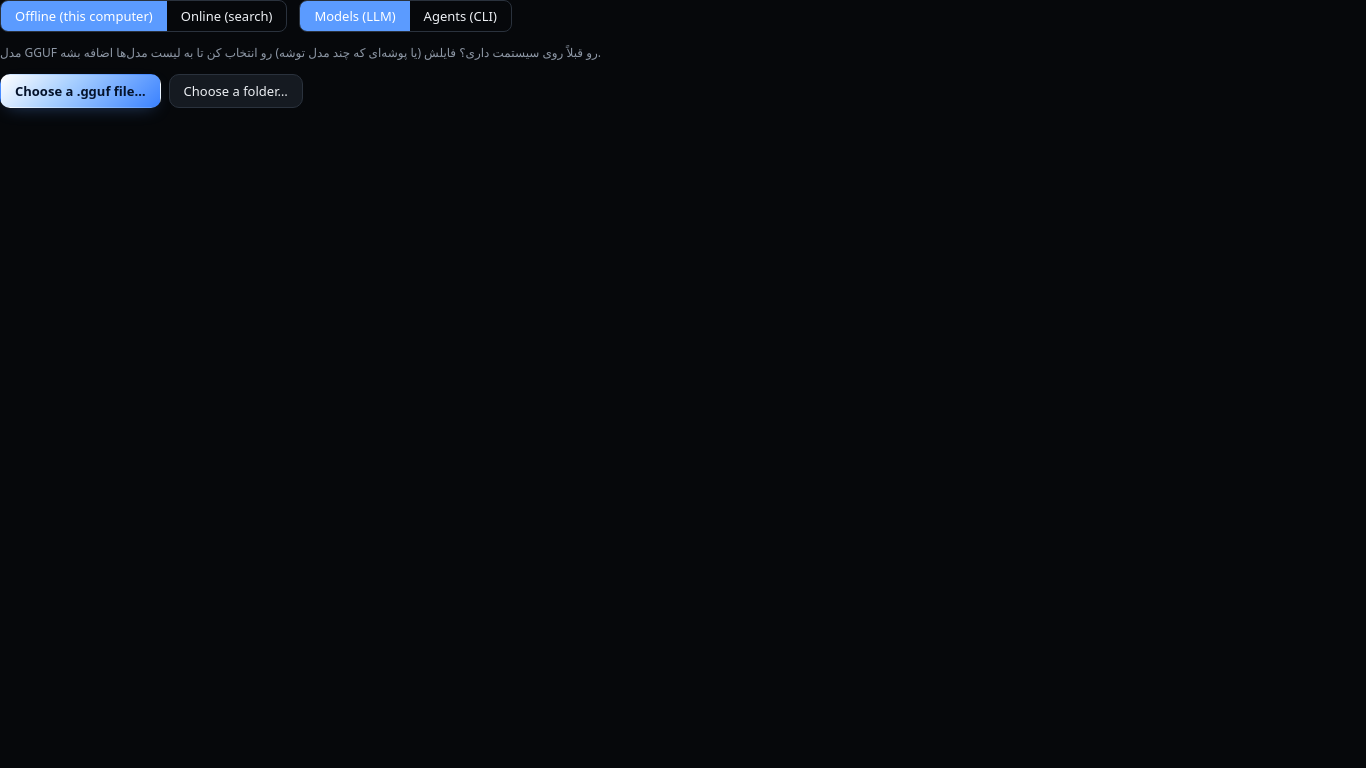
Scenario: BrowseTab › offline + models: picking a .gguf file registers exactly that path and lists the result
Click the button "Choose a .gguf file…": {"x": 80, "y": 91} [0,74,160,108]
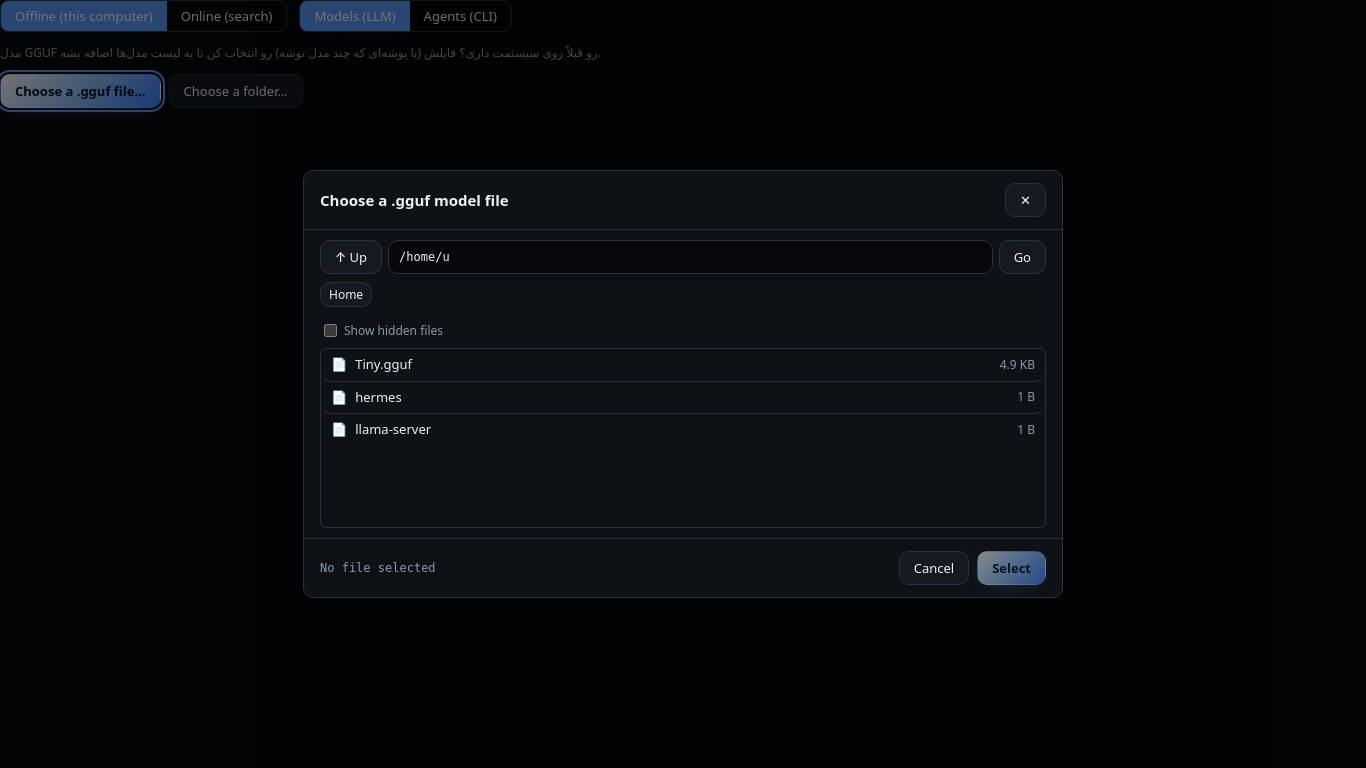
Double-click the text "Tiny.gguf": {"x": 384, "y": 364} [355,355,412,373]
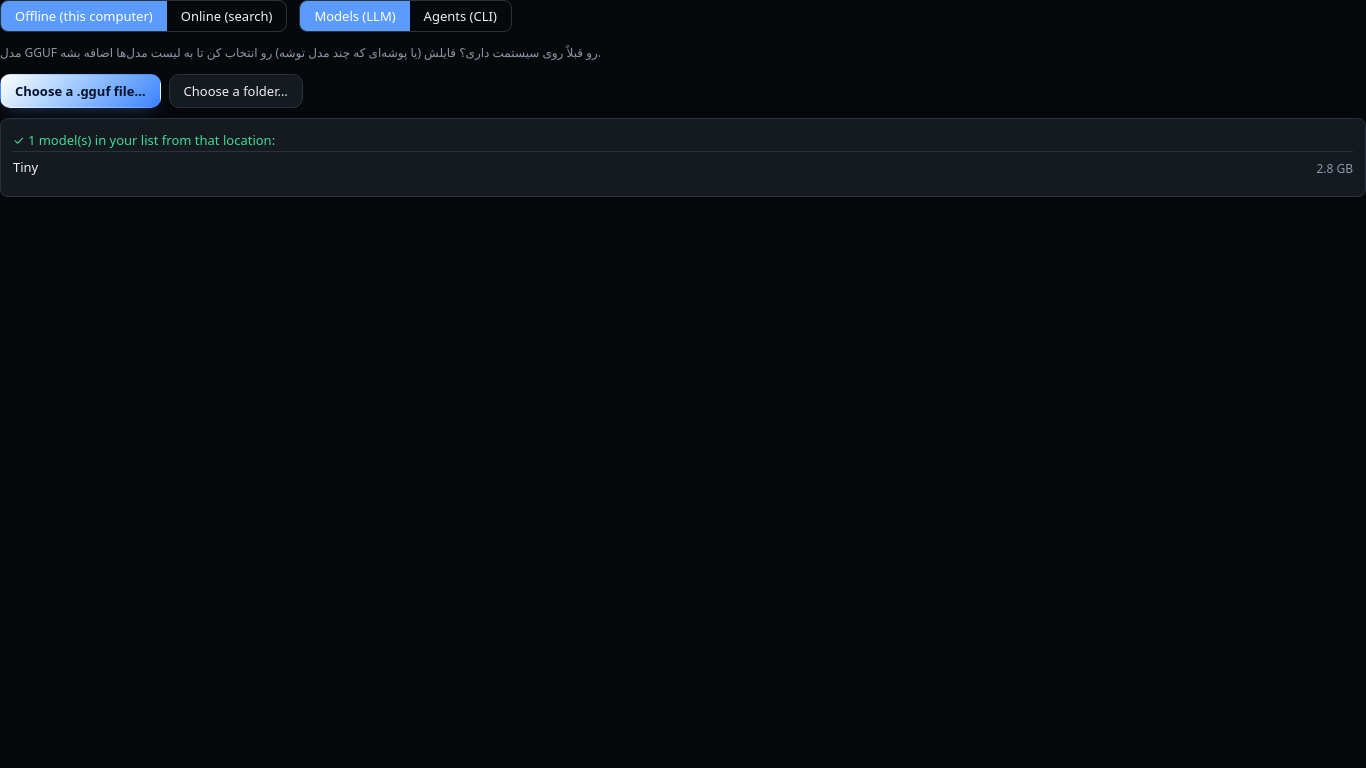
Check: the text "Tiny" is shown, box [13,158,38,177]
Check: the text "✓ 1 model(s) in your list from that location:" is shown, box [13,131,275,149]
